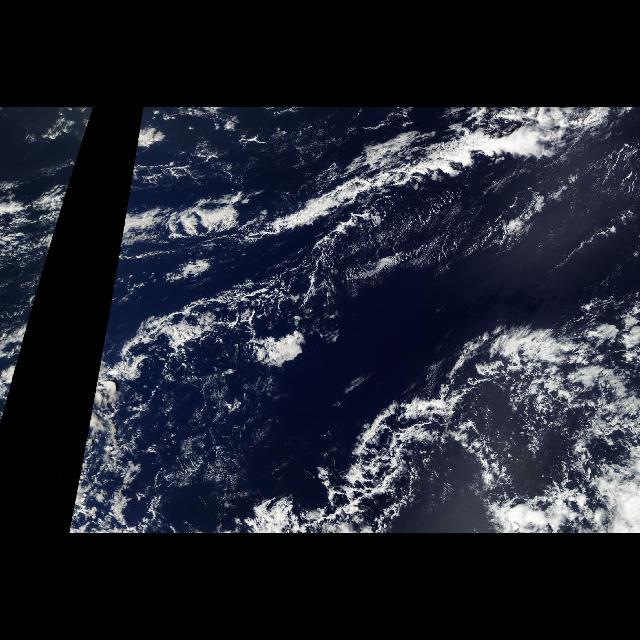Fish: (213, 116, 601, 224)
Sugar: (525, 142, 639, 258)
